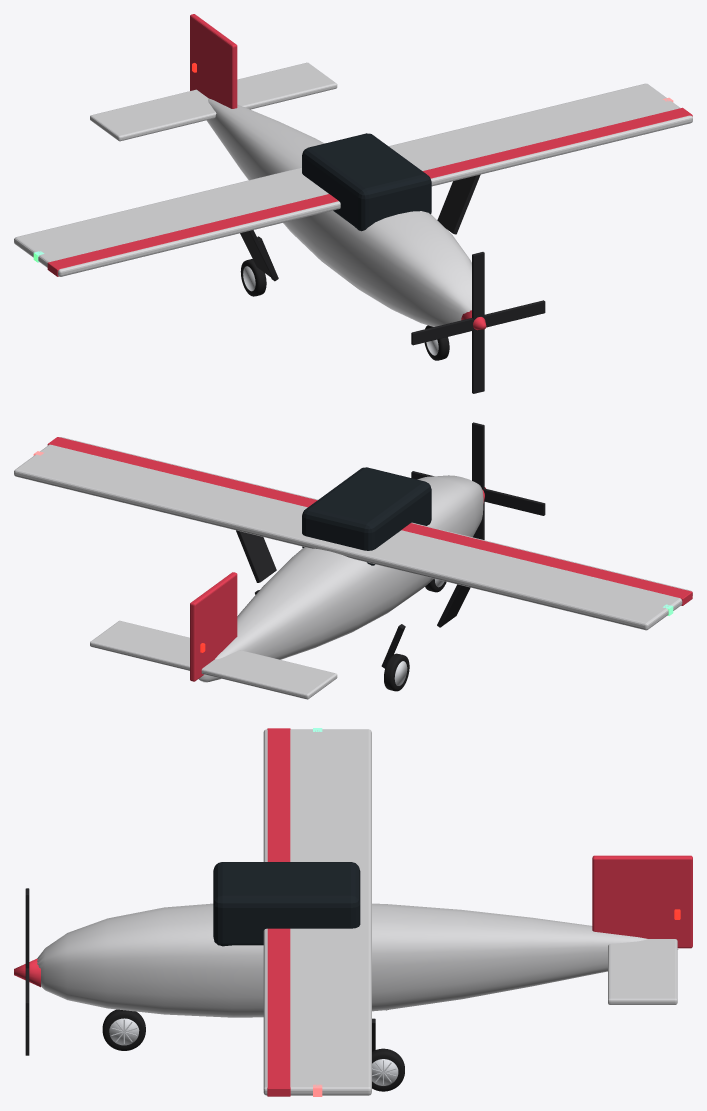
The model's file is skylark.glb.
3 renders of one model, top to bottom at view 1: azimuth 30°, elevation 25°; view 2: azimuth 150°, elevation 25°; view 3: azimuth 270°, elevation 25°, orthographic. The views are drawn at different scales.
Visible parts, largest first — view 1: wing, fuselage, canopy, hstab, wingstripe, fin, blade, blade.001, strut, strut.001; view 2: wing, fuselage, canopy, hstab, wingstripe, fin, strut, blade.001, blade, strut.001, tire.001; view 3: fuselage, wing, canopy, fin, wingstripe, hstab, tire, tire.002, blade.001, rim.
Boxes of the visible parts, x1,y1,x2,y2 form: wing: (14,83,692,276); fuselage: (206,98,471,326); canopy: (302,133,431,231); hstab: (90,62,337,141); wingstripe: (47,107,692,276); fin: (190,14,237,108); blade: (411,300,545,345); blade.001: (472,252,484,393); strut: (437,174,480,234); strut.001: (240,230,276,278); wing: (14,437,692,630); fuselage: (199,475,483,682); canopy: (302,467,431,565); hstab: (90,620,337,699); wingstripe: (47,437,692,605); fin: (190,572,237,681); strut: (236,530,276,582); blade.001: (472,422,484,539); blade: (411,471,545,515); strut.001: (437,584,470,627); tire.001: (384,653,409,691); fuselage: (37,903,678,1017); wing: (263,729,371,1095); canopy: (213,862,360,946); fin: (592,855,692,948); wingstripe: (267,728,290,1096); hstab: (608,939,677,1004); tire: (102,1009,145,1050); tire.002: (372,1048,404,1091); blade.001: (25,888,29,1055); rim: (109,1018,139,1045).
Bounding box in the file's own units: 11.02 × 2.8 × 8.78.
